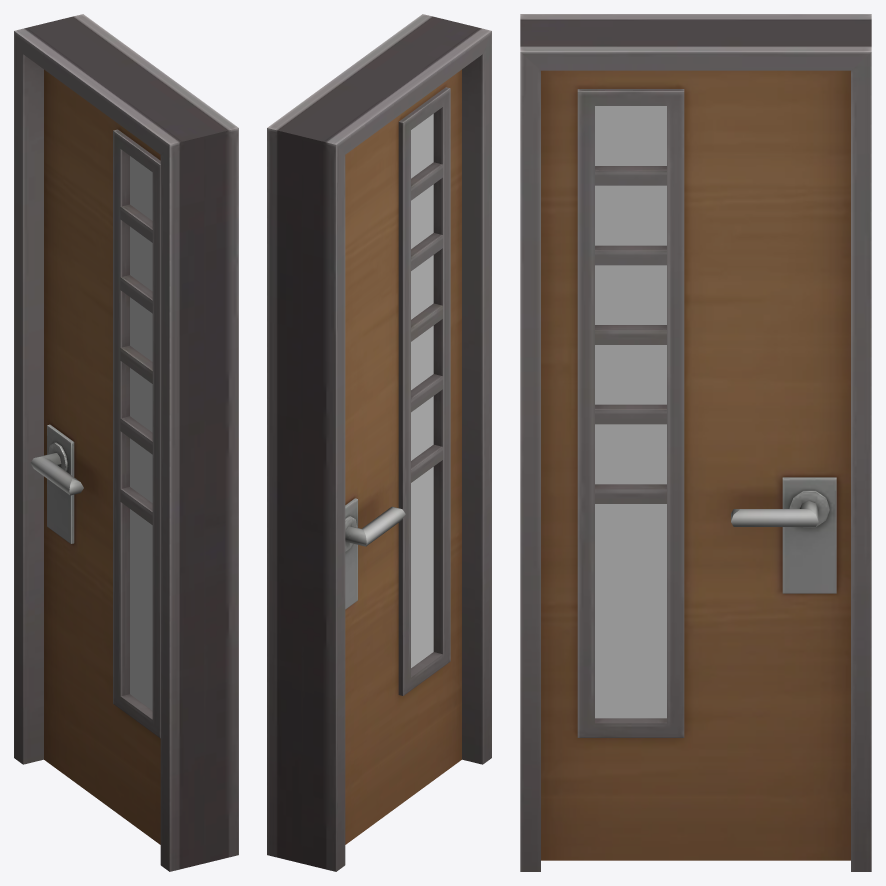
File: tiny_just_alittle_peek.glb
The picture shows the model from 3 angles, left to right: view 1: azimuth 30°, elevation 25°; view 2: azimuth 150°, elevation 25°; view 3: azimuth 270°, elevation 25°; orthographic projection. The views are drawn at different scales.
Visible parts, largest first — view 1: Object_30, Object_36; view 2: Object_30, Object_36; view 3: Object_30, Object_36.
Part boxes in pixels (<box>): Object_30: <box>14,14,238,871</box>; Object_36: <box>130,156,152,710</box>; Object_30: <box>267,14,491,871</box>; Object_36: <box>411,114,433,667</box>; Object_30: <box>520,14,871,871</box>; Object_36: <box>595,106,666,718</box>.
Bounding box in the file's own units: 0.3834 × 3.19 × 1.24.
2 materials, 1 textured.
